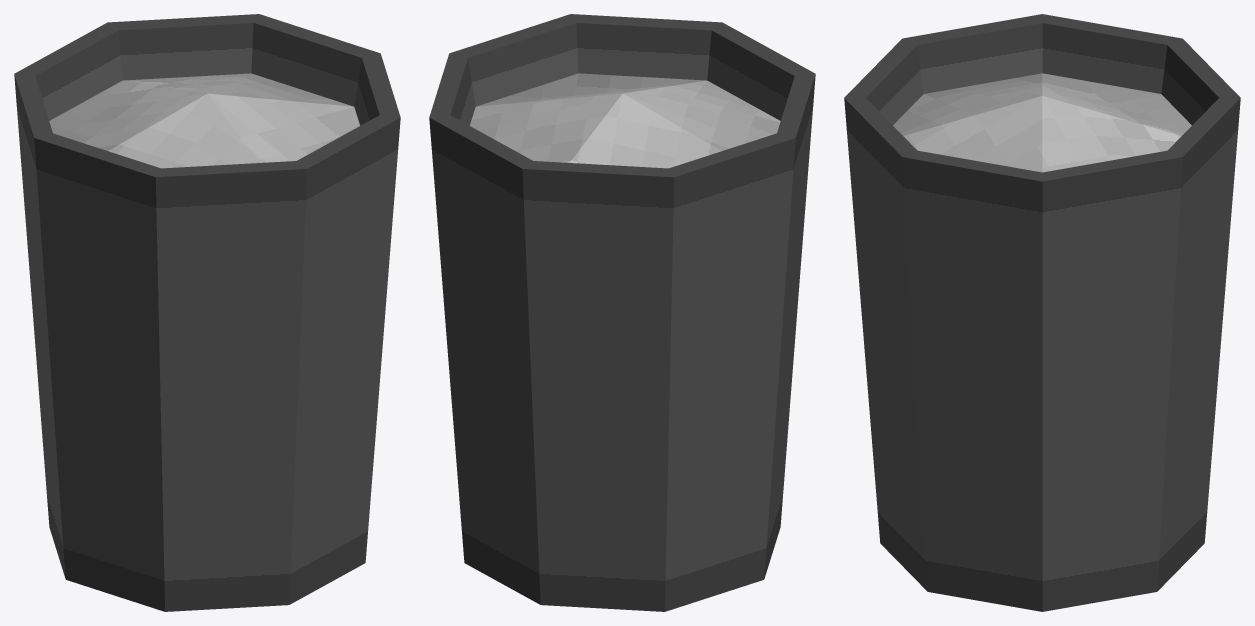
File: TrashCanFull01.glb
3 renders of one model, left to right at view 1: azimuth 30°, elevation 25°; view 2: azimuth 150°, elevation 25°; view 3: azimuth 270°, elevation 25°, orthographic.
Parts seen in each view (by area): view 1: TrashCanFull01; view 2: TrashCanFull01; view 3: TrashCanFull01.
Part boxes in pixels (box(x1,y1,x2,y2)): TrashCanFull01: box(14, 14, 400, 611); TrashCanFull01: box(429, 14, 815, 611); TrashCanFull01: box(844, 14, 1240, 611).
Bounding box in the file's own units: 0.484 × 0.6027 × 0.484.
1 material, 1 textured.
